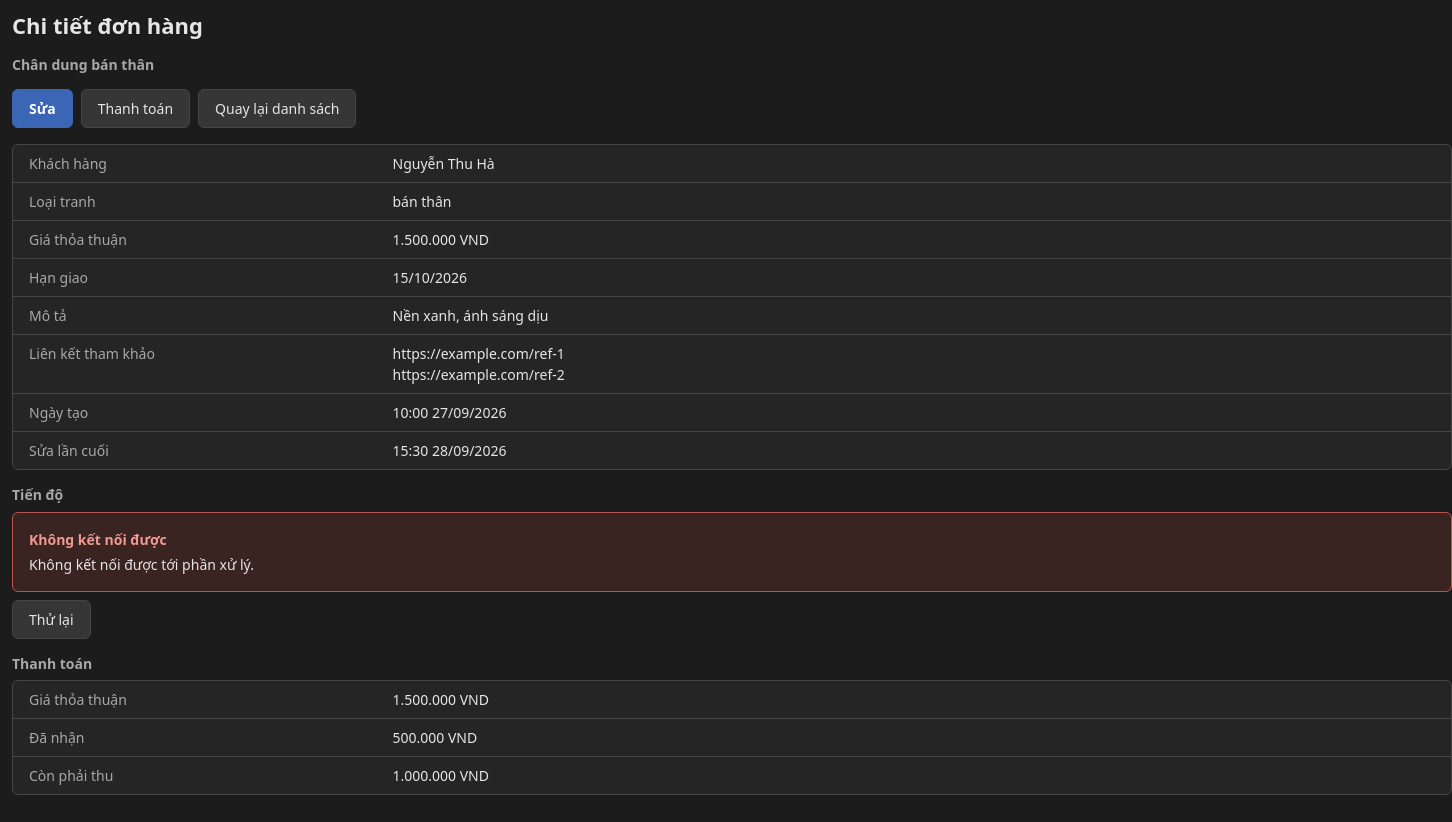
Test: page commission_detail, part "Tiến độ" (D3) › "Thử lại" of the part loads the part again only; then "Đổi giai đoạn" is offered
This screenshot has width=1452, height=822.
Expected: the message "Không kết nối được Không kết nối được tới phần xử lý." is shown, x1=12 y1=512 x2=1451 y2=592
Click the button "Thử lại" at (51, 619), box x1=12 y1=600 x2=91 y2=638
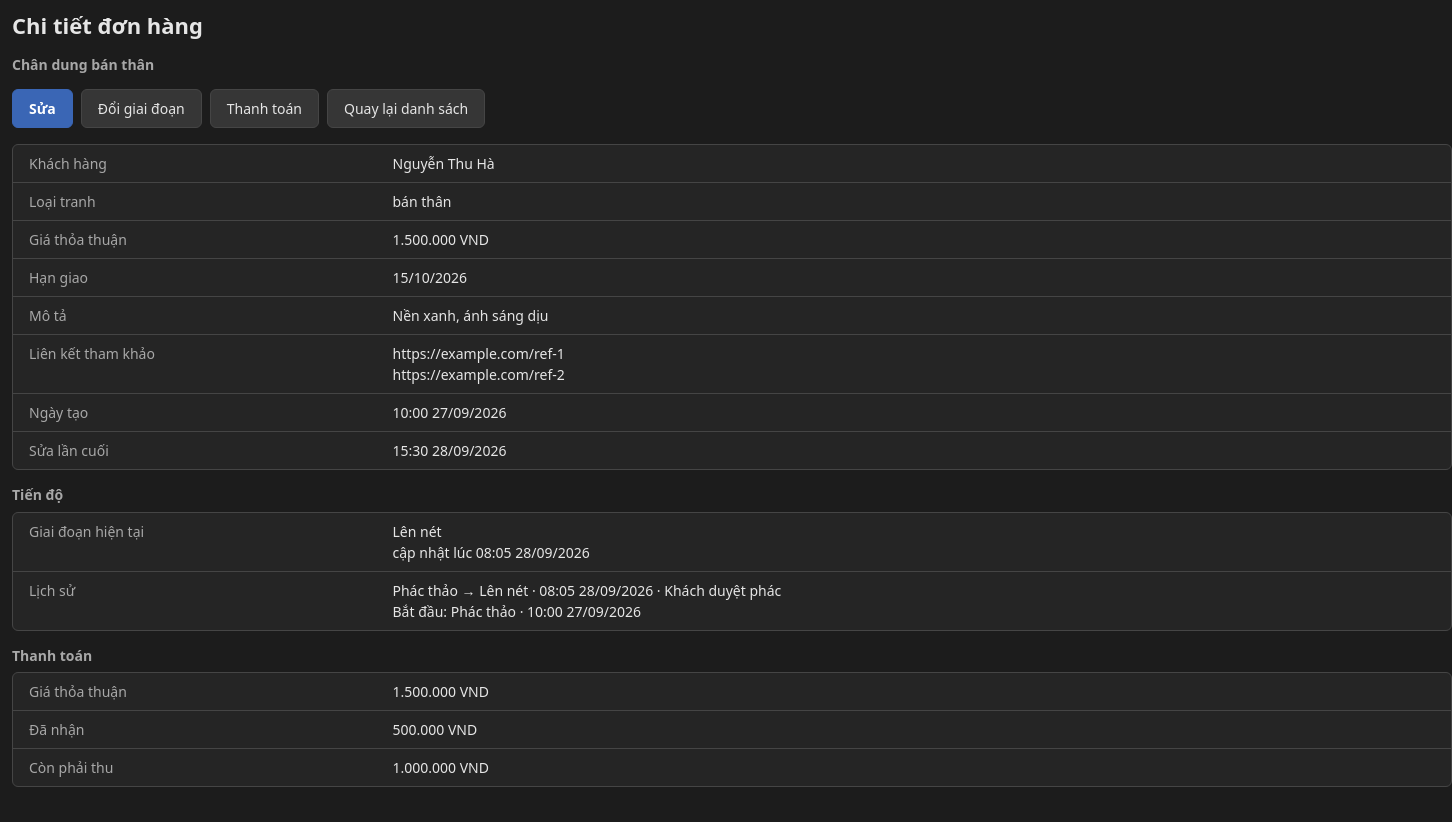
Expected: the element named "Tiến độ đơn hàng" is shown, x1=12 y1=512 x2=1451 y2=630
